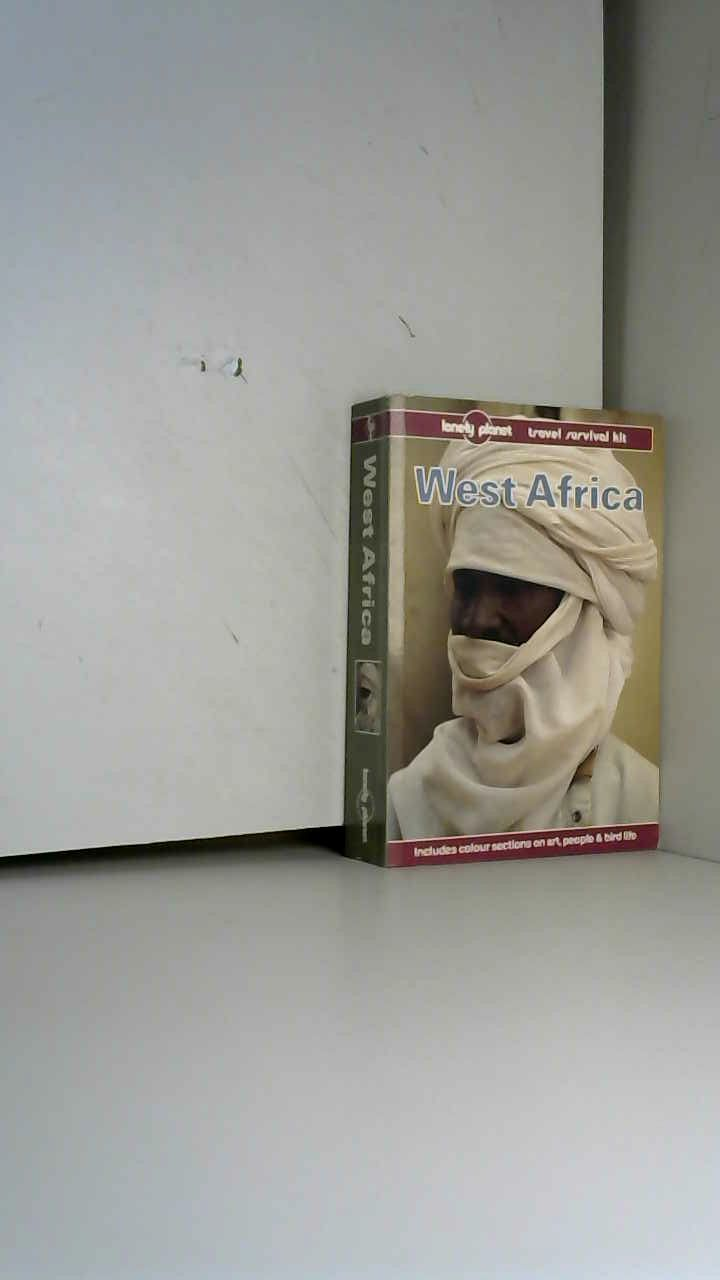book: (320, 370, 720, 894)
